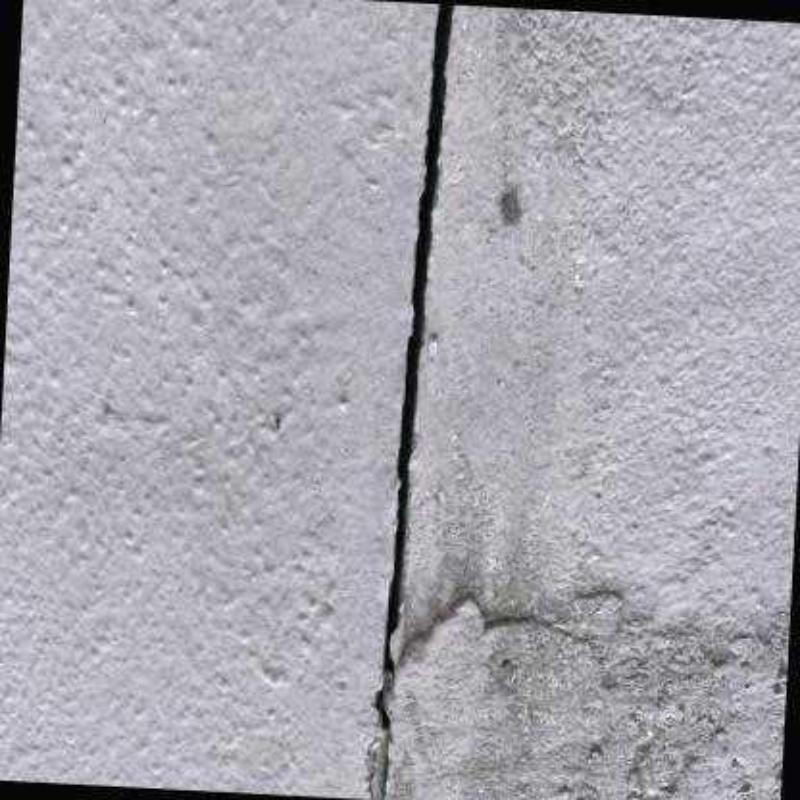crack: (370, 4, 458, 799)
